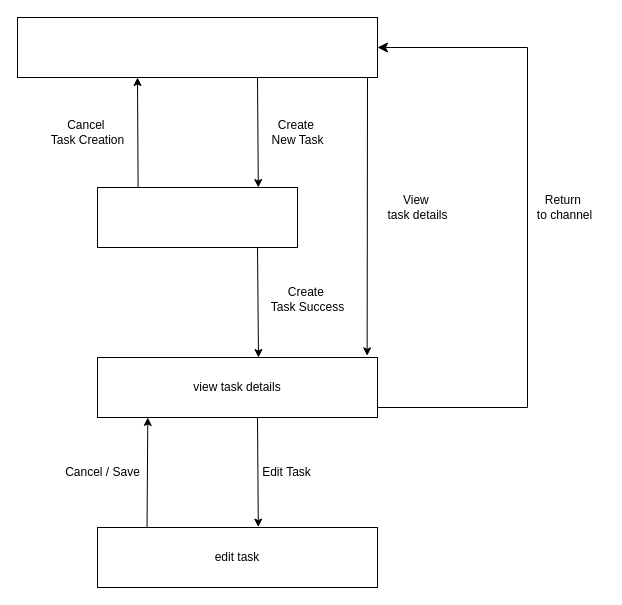
Some shapes in this 622 by 605 pixel diagram are drawn without their labels. Each missing label, with the centre of its shape:
"create task" belongs at point 197,217.
"view channel activities" belongs at point 197,47.
